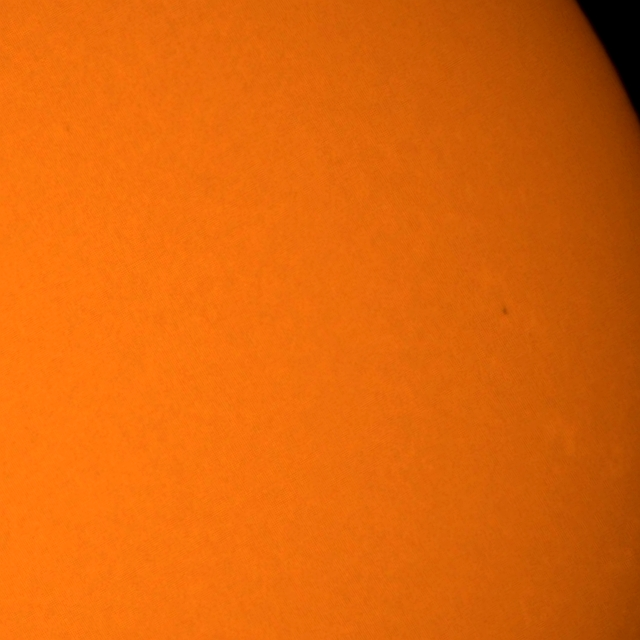sunspot: (500, 305, 510, 318)
